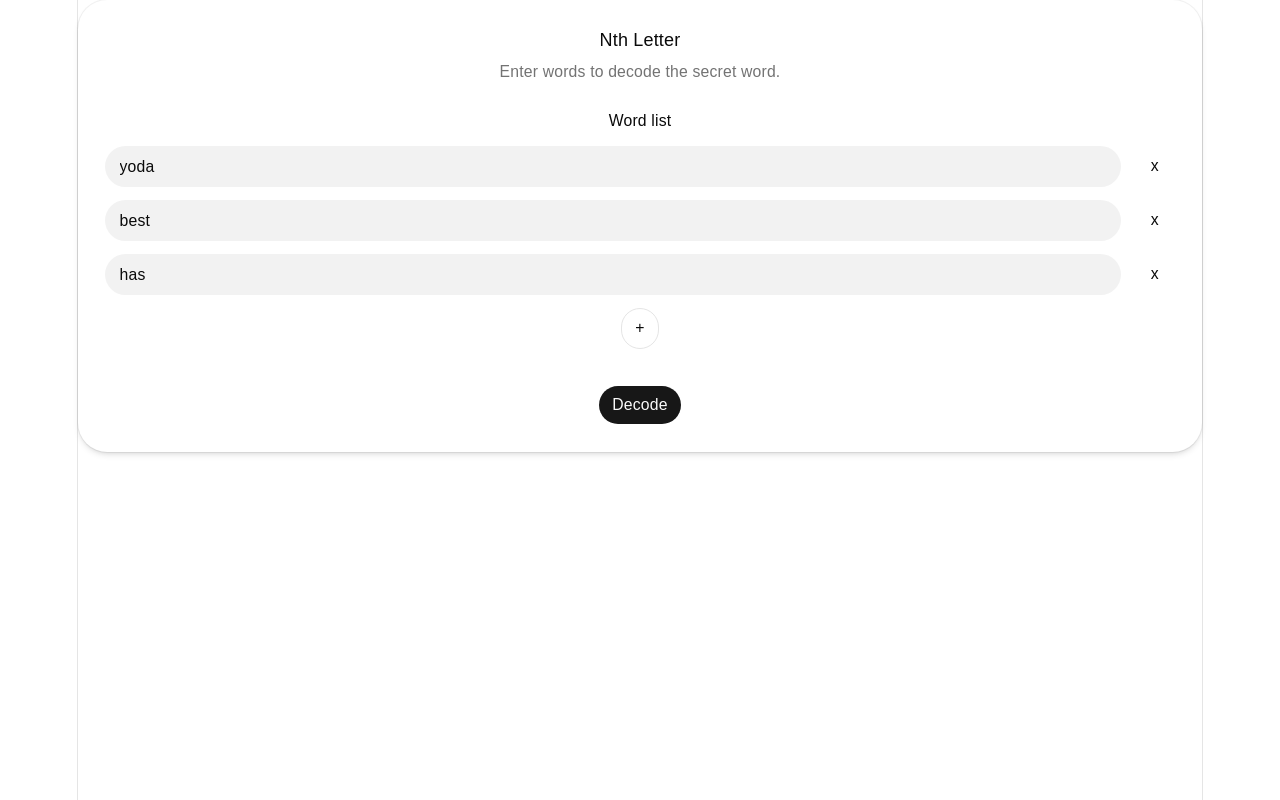
NthLetterChallenge › clears result when editing words
Click the button "Decode" at (640, 405), box 598,385 -> 682,425
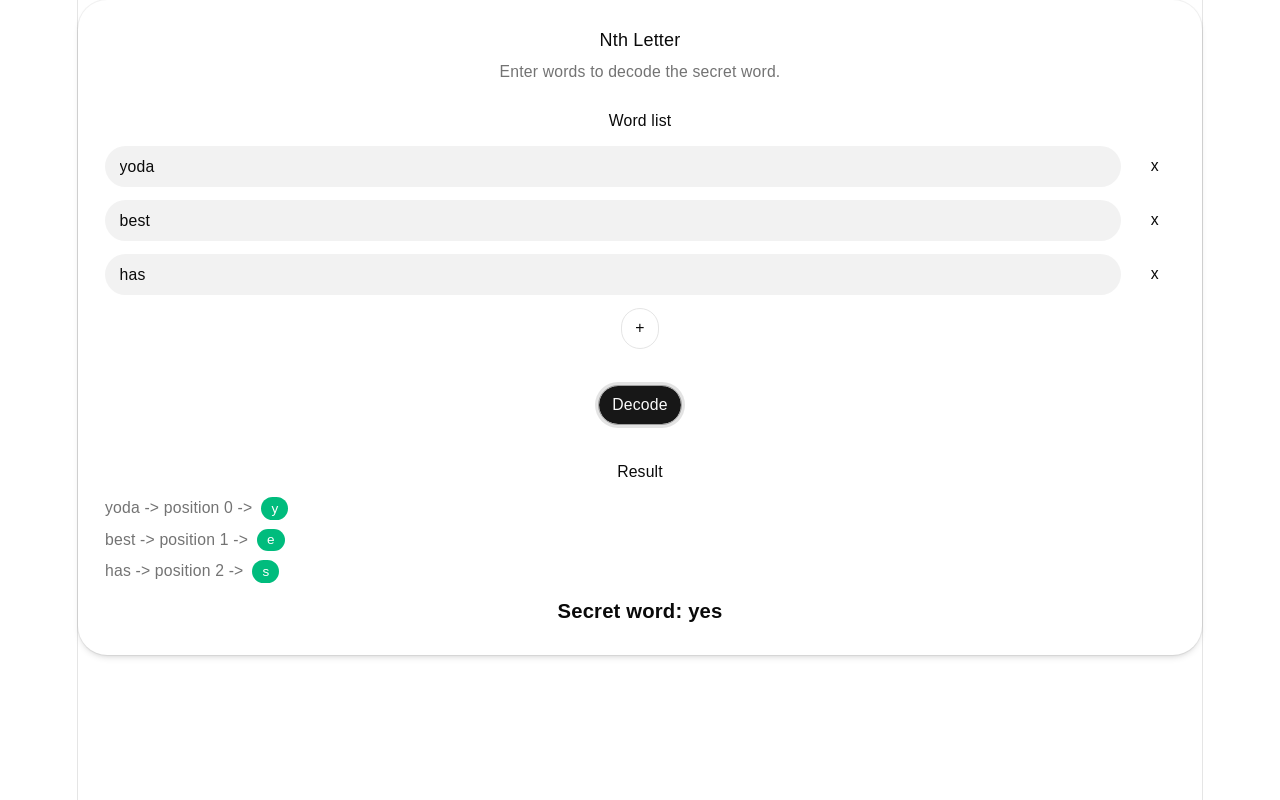
Check: the text "Secret word: yes" is shown, box 558,600 -> 722,622
Type "s" into the 1st field showing "yoda" at (613, 167), box 105,146 -> 1121,187
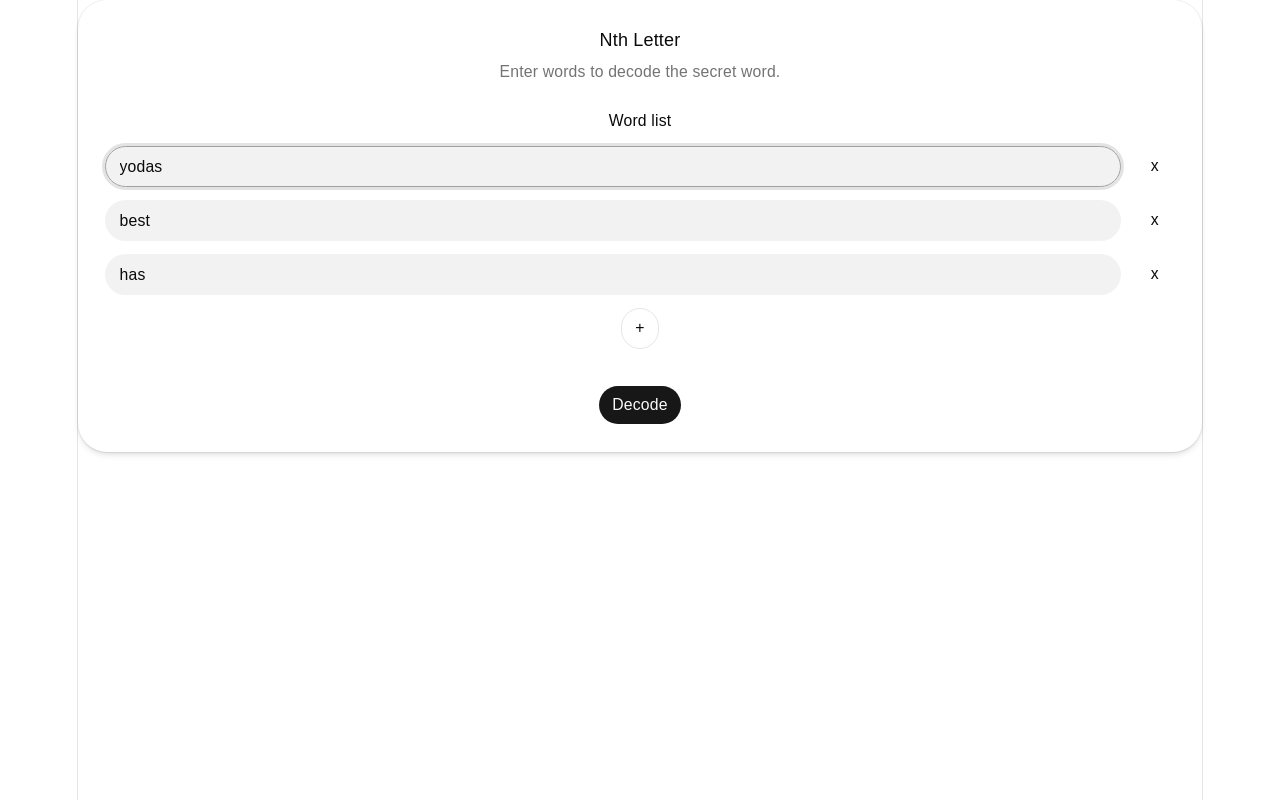
Check: the text "Secret word: yes" is gone
